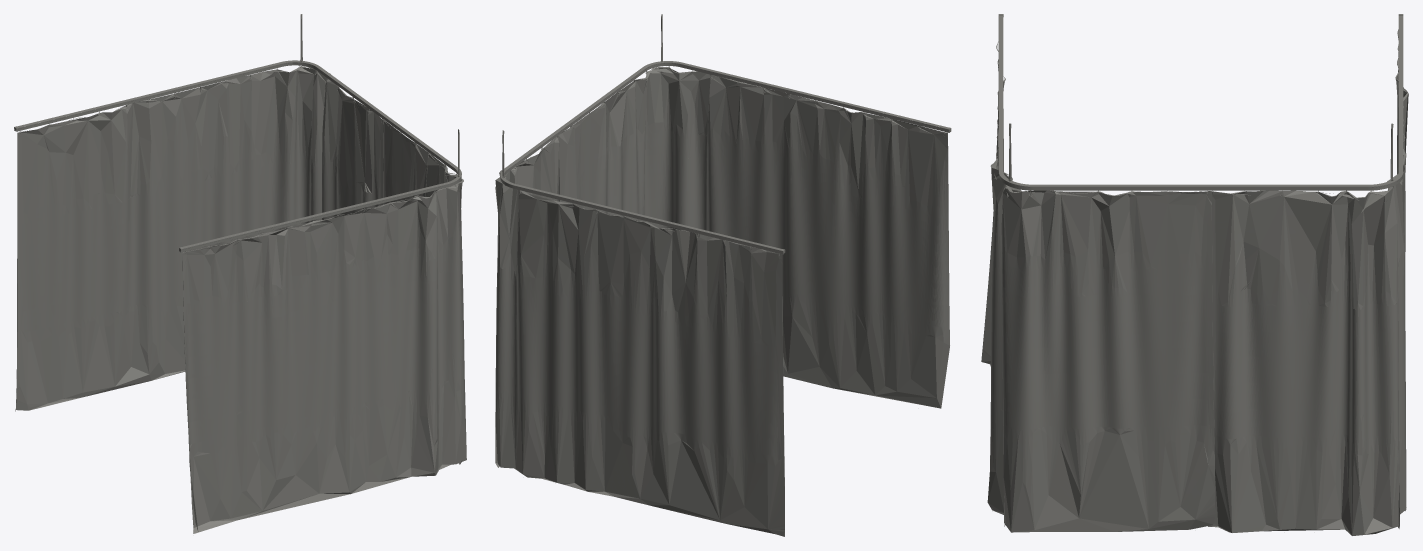
The model's file is screen_hospital_b01.glb.
The picture shows the model from 3 angles, left to right: view 1: azimuth 30°, elevation 25°; view 2: azimuth 150°, elevation 25°; view 3: azimuth 270°, elevation 25°; orthographic projection. The views are drawn at different scales.
Visible parts, largest first — view 1: geometry_0; view 2: geometry_0; view 3: geometry_0.
Boxes of the visible parts, box(x1,y1,x2,y2) form: geometry_0: box(14, 14, 466, 533); geometry_0: box(495, 14, 951, 536); geometry_0: box(981, 14, 1408, 535).
Bounding box in the file's own units: 0.3938 × 0.42 × 0.4018.
1 material, 1 textured.
